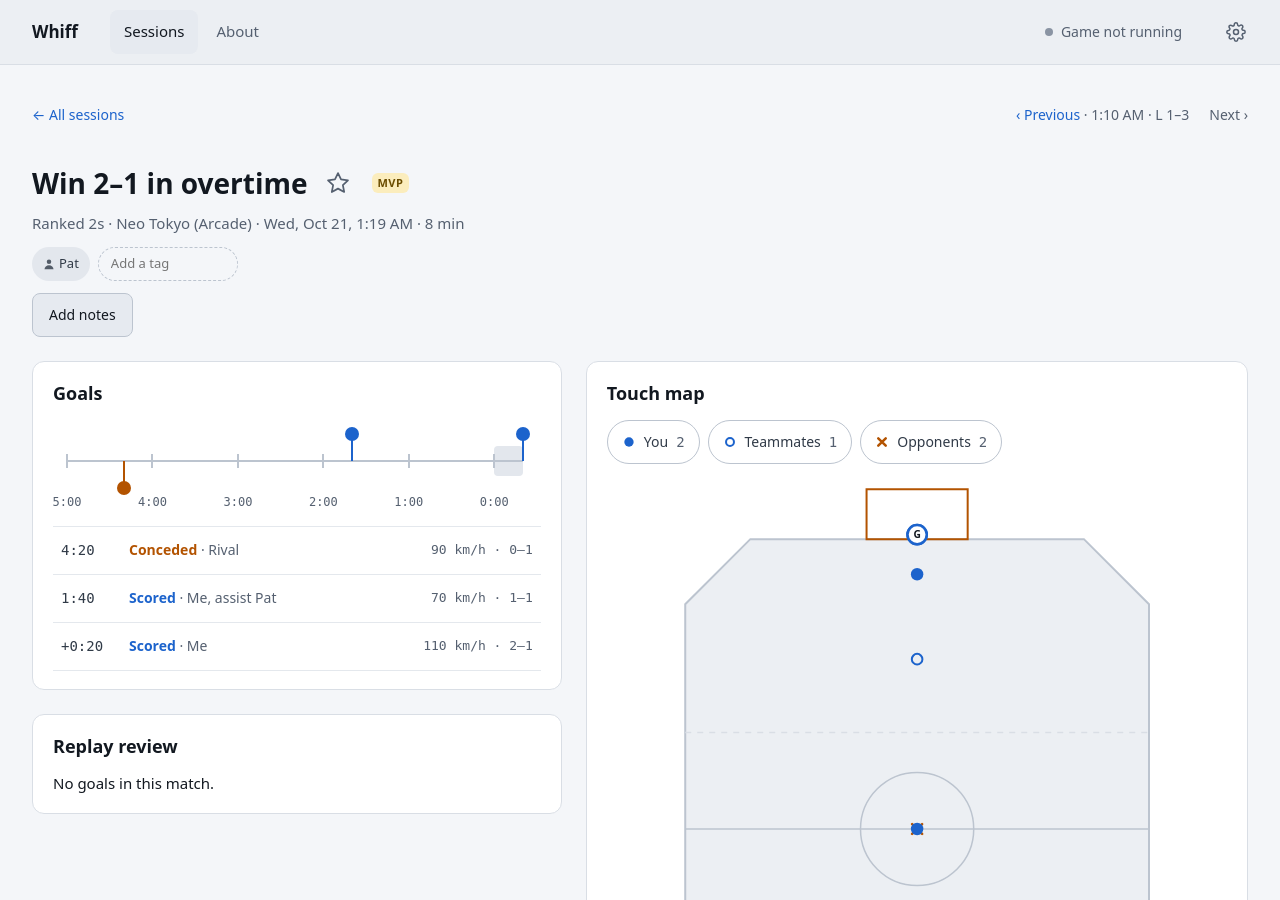
Test: Match screen › lists goals with the running score, and shows a goal's build-up on the touch map
This screenshot has width=1280, height=900.
expect the button "+0:20 Scored · Me 110 km/h · 2–1" is shown: met, box [53, 623, 541, 671]
expect the picture named "5 touches on the field" is shown: met, box [607, 478, 1227, 899]
Click the button "1:40 Scored · Me, assist Pat 70 km/h · 1–1": (78, 598) [53, 575, 541, 623]
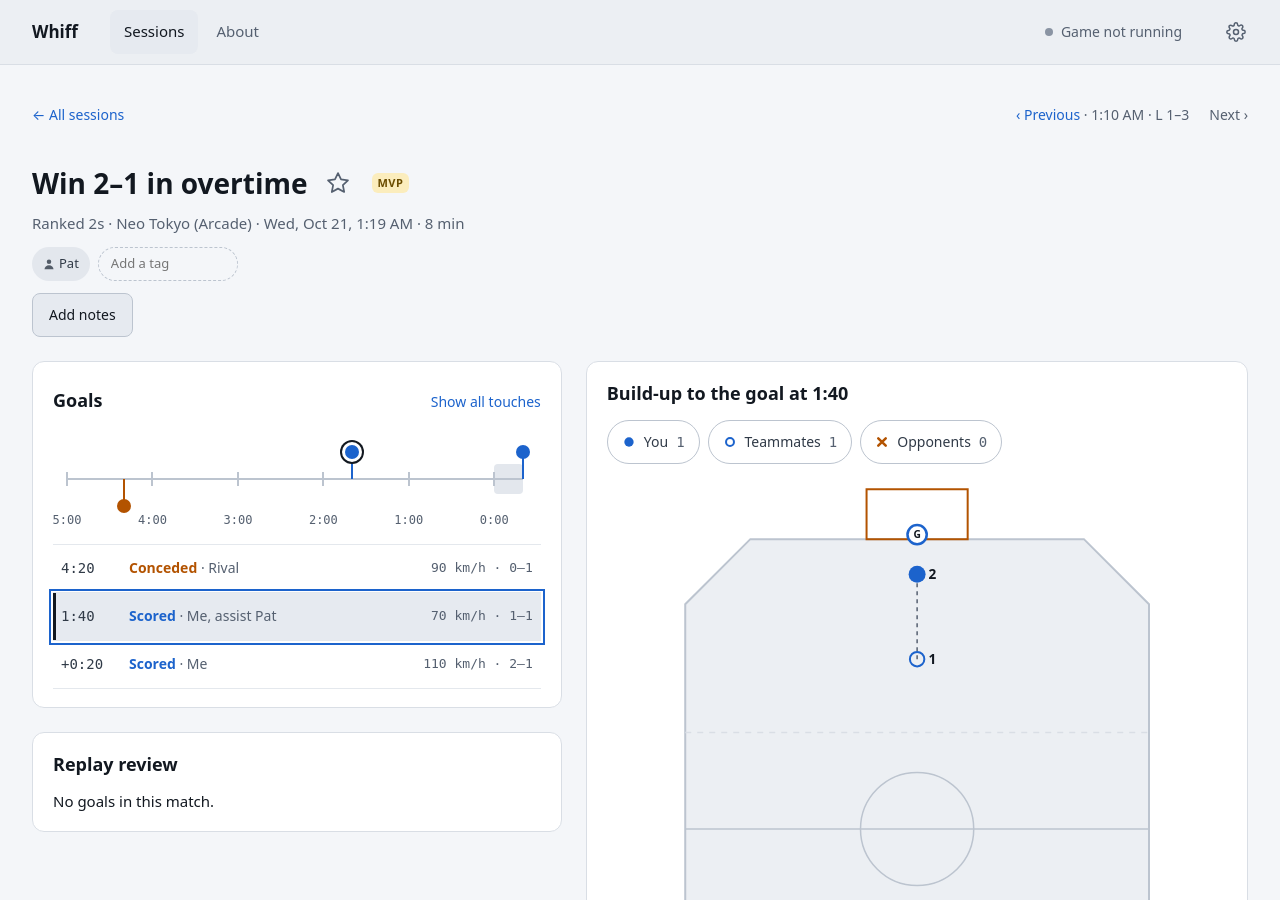
expect the heading "Build-up to the goal at 1:40" is shown: met, box [607, 380, 848, 406]
expect the picture named "2 touches before the goal" is shown: met, box [607, 478, 1227, 899]
Click the button "Show all touches": (486, 402) [431, 380, 541, 424]
(page scrolled)
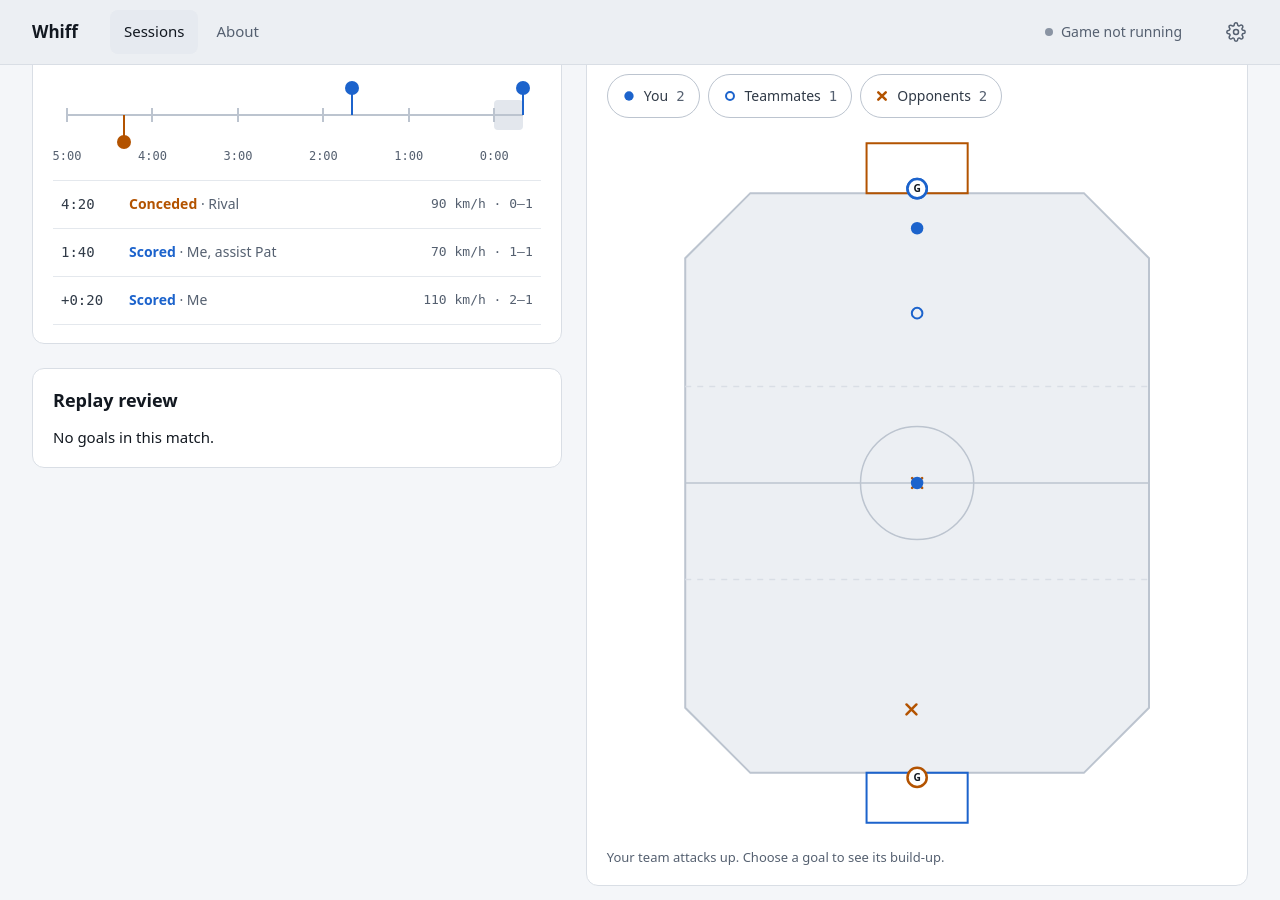
expect the picture named "5 touches on the field" is shown: met, box [607, 132, 1227, 834]
